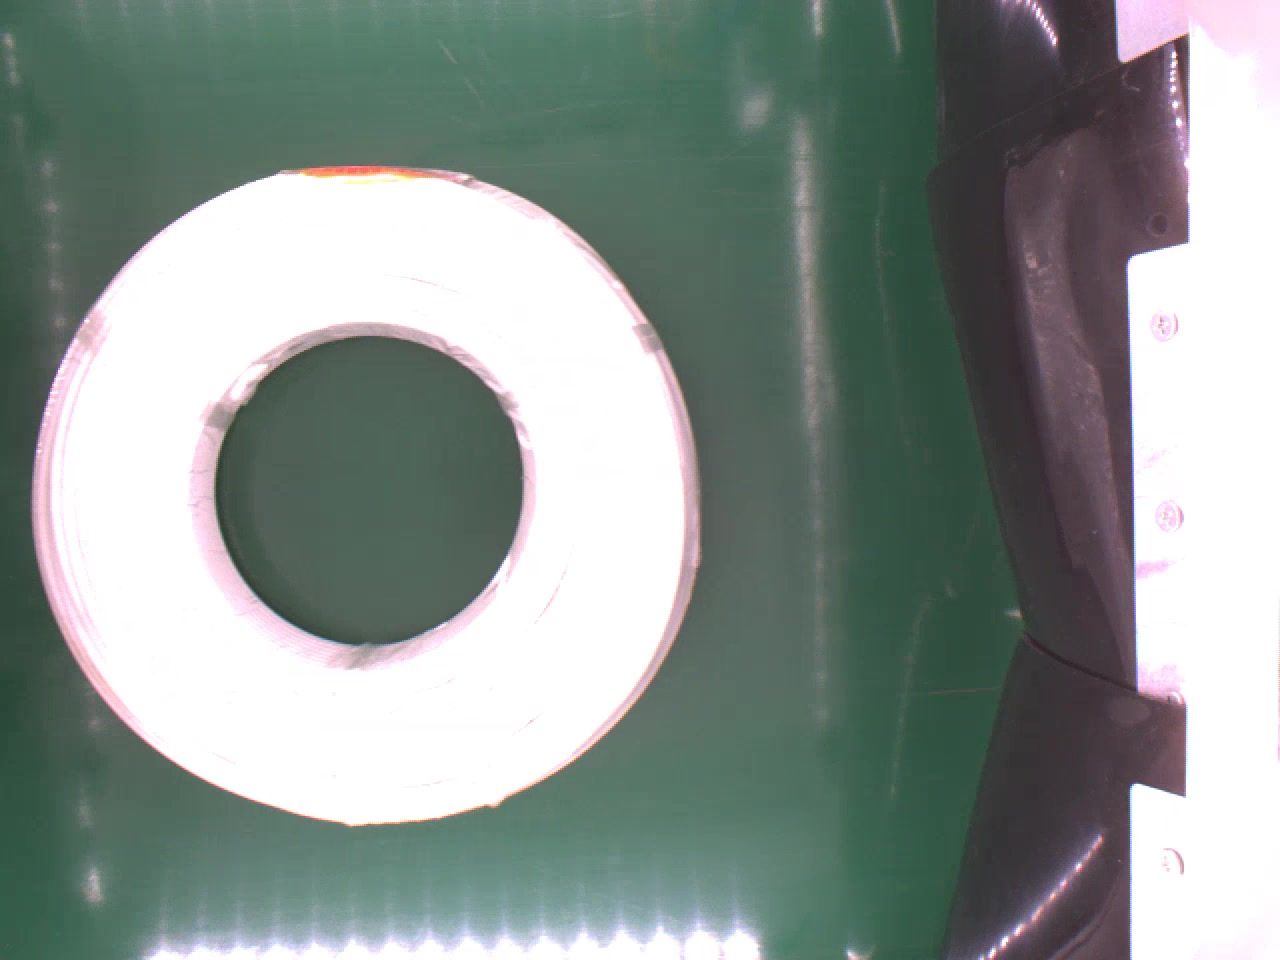white: (28, 160, 703, 829)
